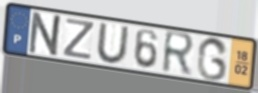6: (134, 28, 160, 71)
G: (195, 36, 230, 83)
N: (26, 10, 66, 59)
R: (160, 28, 197, 79)
U: (95, 22, 131, 66)
Z: (61, 17, 97, 62)
